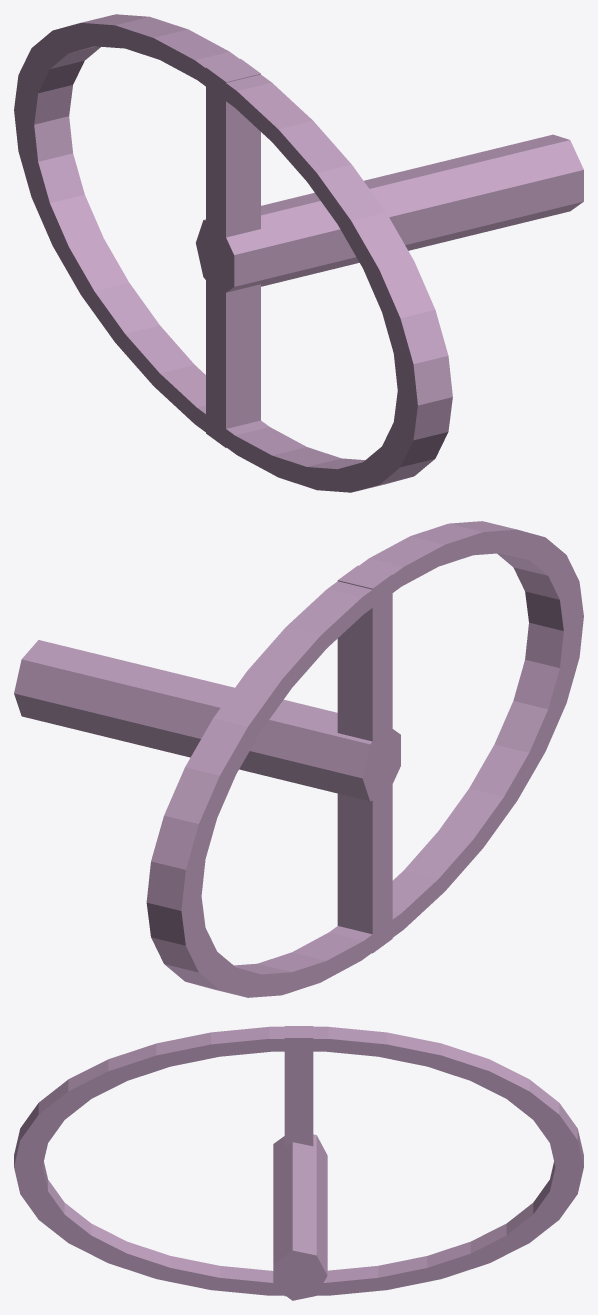
File: handle.glb
3 renders of one model, top to bottom at view 1: azimuth 30°, elevation 25°; view 2: azimuth 150°, elevation 25°; view 3: azimuth 270°, elevation 25°, orthographic. The views are drawn at different scales.
Parts seen in each view (by area): view 1: handle.off; view 2: handle.off; view 3: handle.off.
Boxes of the visible parts, x1=… form: handle.off: x1=14, y1=14, x2=583, y2=492; handle.off: x1=14, y1=521, x2=583, y2=997; handle.off: x1=14, y1=1026, x2=583, y2=1300.
Size of the model in its own units: 20 by 20 by 40.
